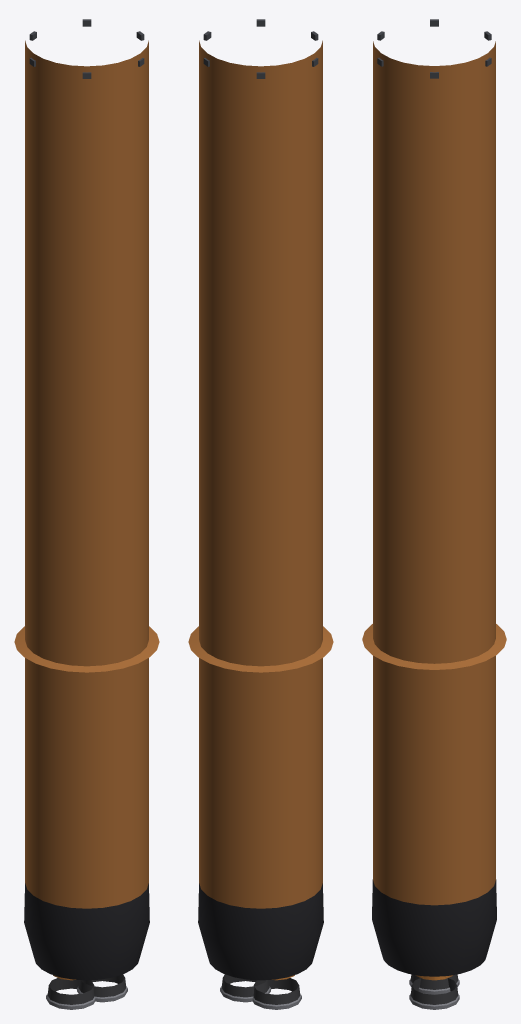
Rendered from ccb.mid.glb.
3 views of the same model, side by side, from view 1: azimuth 30°, elevation 25°; view 2: azimuth 150°, elevation 25°; view 3: azimuth 270°, elevation 25° (orthographic).
Visible parts, largest first — view 1: ccb.hull, ccb.dark, ccb.bell, ccb.metal; view 2: ccb.hull, ccb.dark, ccb.bell, ccb.metal; view 3: ccb.hull, ccb.dark, ccb.bell, ccb.metal.
Boxes of the visible parts, bbox=[...] form: ccb.hull: bbox=[14, 40, 159, 908]; ccb.dark: bbox=[24, 19, 149, 980]; ccb.bell: bbox=[47, 974, 126, 1004]; ccb.metal: bbox=[46, 986, 127, 1009]; ccb.hull: bbox=[188, 40, 333, 908]; ccb.dark: bbox=[198, 19, 323, 980]; ccb.bell: bbox=[221, 974, 300, 1004]; ccb.metal: bbox=[220, 986, 301, 1009]; ccb.hull: bbox=[362, 41, 506, 905]; ccb.dark: bbox=[372, 19, 496, 976]; ccb.bell: bbox=[410, 974, 458, 1004]; ccb.metal: bbox=[409, 978, 459, 1009].
Bounding box in the file's own units: 4.48 × 32.53 × 4.48.
